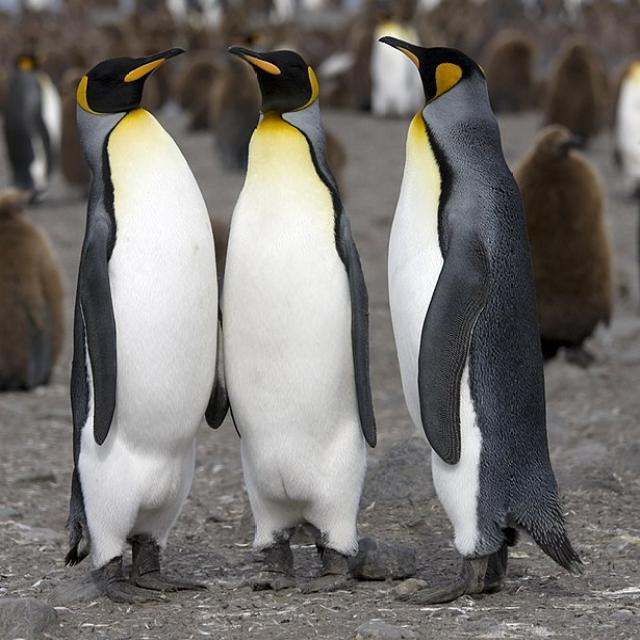Penguin: (380, 35, 586, 596), (228, 38, 376, 591), (68, 44, 206, 611)
